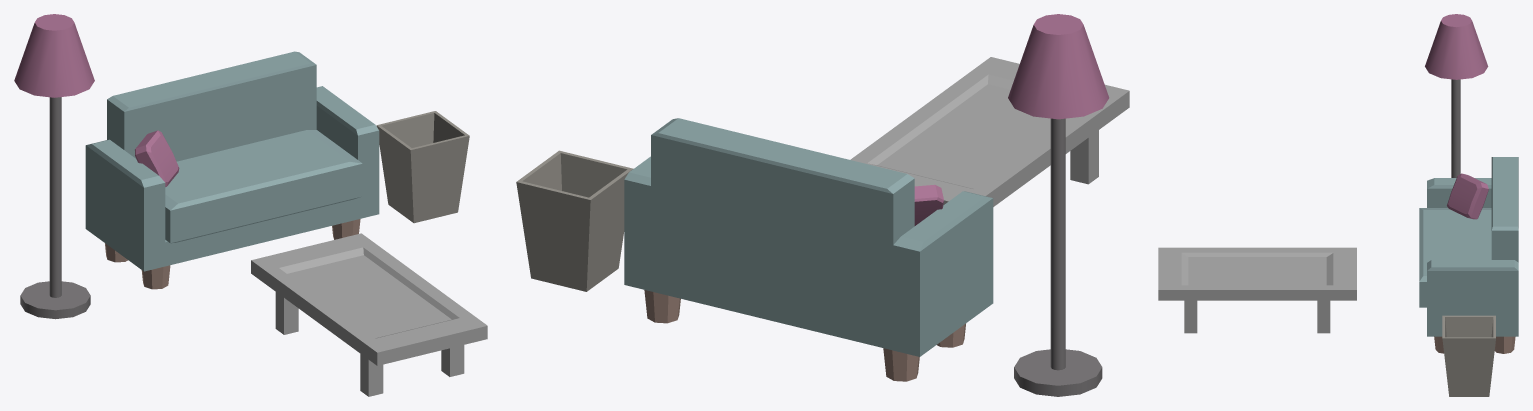
File: Living Room Assets.fbx
3 views of the same model, side by side, from view 1: azimuth 30°, elevation 25°; view 2: azimuth 150°, elevation 25°; view 3: azimuth 270°, elevation 25° (orthographic). The views are drawn at different scales.
Visible parts, largest first — view 1: pCylinder5, pCube12, pCube6, pCylinder7, pCylinder6, pCube5; view 2: pCylinder5, pCube12, pCube6, pCylinder7, pCylinder6, pCube5; view 3: pCylinder5, pCube12, pCube6, pCylinder7, pCube5, pCylinder6.
Boxes of the visible parts, bbox=[...] form: pCylinder5: bbox=[85, 51, 379, 289]; pCube12: bbox=[251, 233, 487, 396]; pCube6: bbox=[376, 111, 469, 223]; pCylinder7: bbox=[14, 14, 94, 97]; pCylinder6: bbox=[20, 97, 90, 319]; pCube5: bbox=[135, 130, 179, 186]; pCylinder5: bbox=[624, 118, 993, 381]; pCube12: bbox=[850, 57, 1129, 206]; pCube6: bbox=[516, 150, 633, 291]; pCylinder7: bbox=[1008, 14, 1109, 119]; pCylinder6: bbox=[1014, 118, 1102, 396]; pCube5: bbox=[914, 184, 943, 225]; pCylinder5: bbox=[1419, 157, 1518, 353]; pCube12: bbox=[1158, 247, 1356, 333]; pCube6: bbox=[1442, 315, 1495, 396]; pCylinder7: bbox=[1425, 14, 1488, 79]; pCube5: bbox=[1447, 173, 1488, 219]; pCylinder6: bbox=[1451, 79, 1460, 177].
Size of the model in its own units: 2.02 by 1.24 by 1.82.
